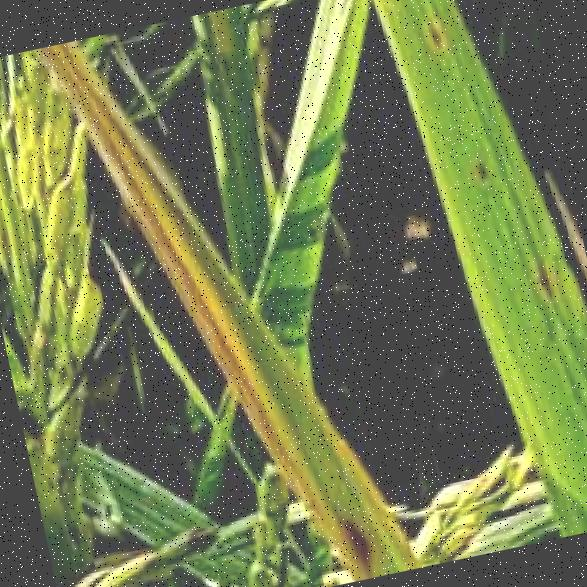Bacteria_Leaf_Blight: (26, 6, 364, 548)
